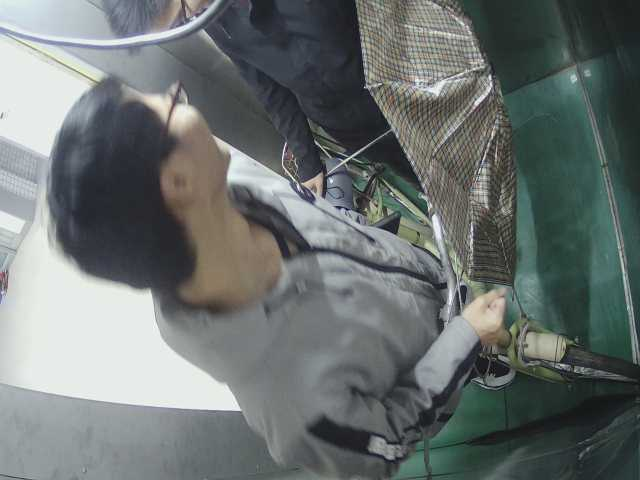bicycle: (273, 134, 636, 397)
person: (47, 81, 506, 476), (105, 1, 453, 190)
